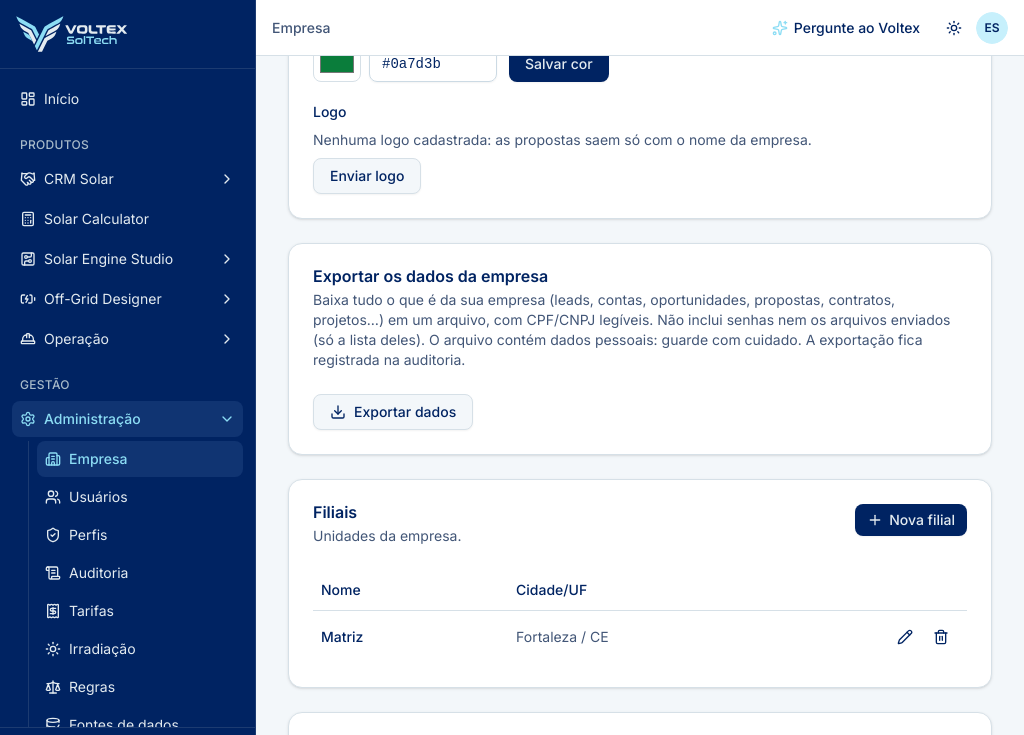
Test: Empresa · Exportar dados (LGPD) › baixa o arquivo JSON com os dados da empresa
The image size is (1024, 735).
(page scrolled)
Click the button "Exportar dados": (393, 412) [313,394,473,430]
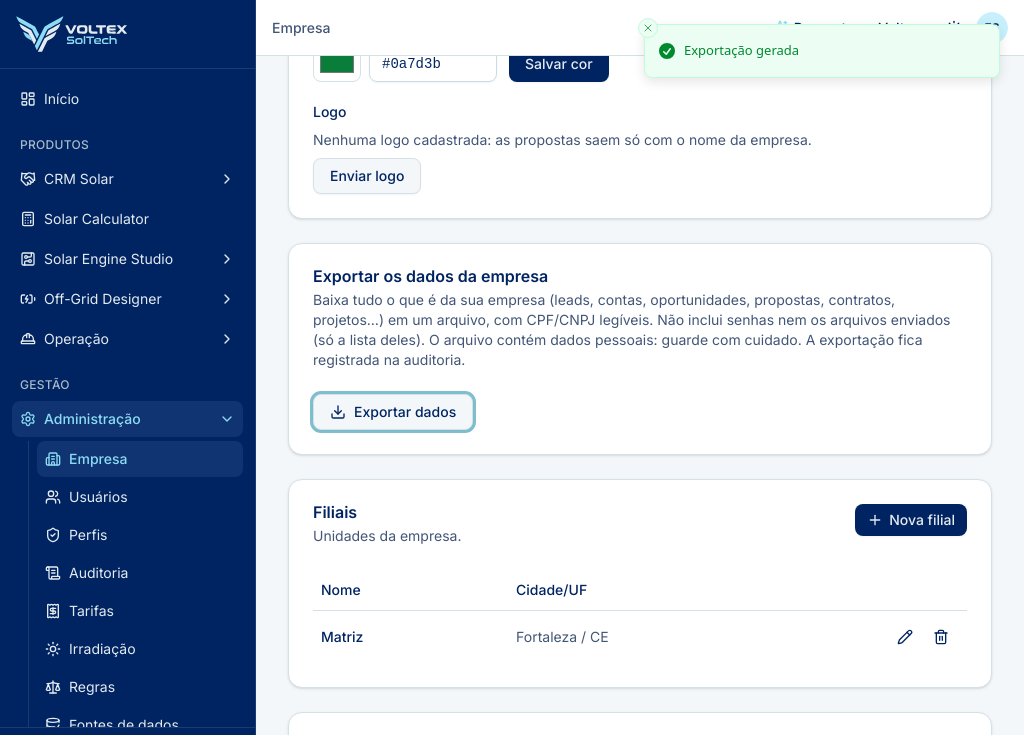
Now the text "Exportação gerada" is shown, box [684,41,799,60]
